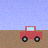vehicle: (20, 26, 42, 42)
